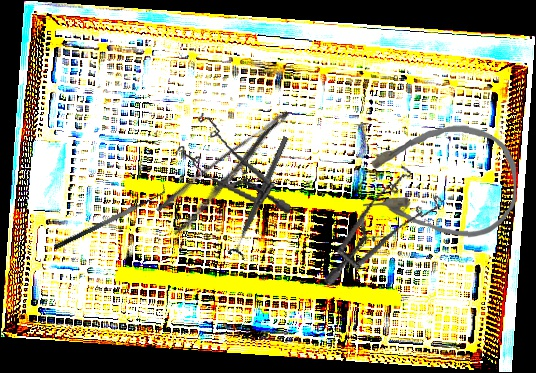Cannula: (362, 123, 517, 239)
Dressing Forceps: (153, 107, 308, 238)
Fixation Ring: (226, 133, 296, 261)
Spatula Surgical: (49, 182, 170, 251)
Speculum: (322, 152, 451, 311), (169, 109, 304, 215)
